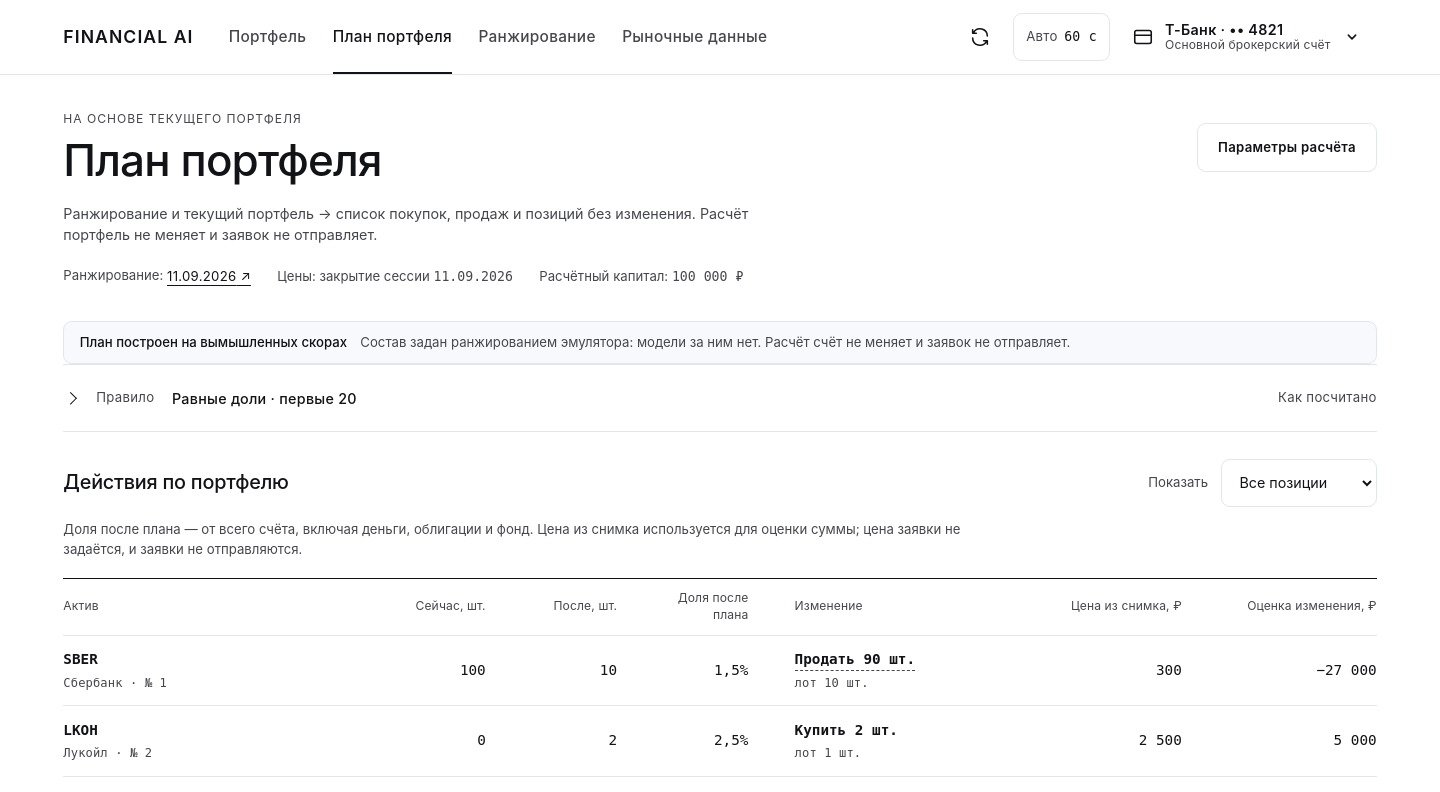
план портфеля › отбор по изменению оставляет только нужные строки
This screenshot has width=1440, height=792.
Select "К покупке" in the dropdown labelled "Показать" at {"x": 1299, "y": 483}, box top-left (1221, 459), bottom-right (1377, 507)
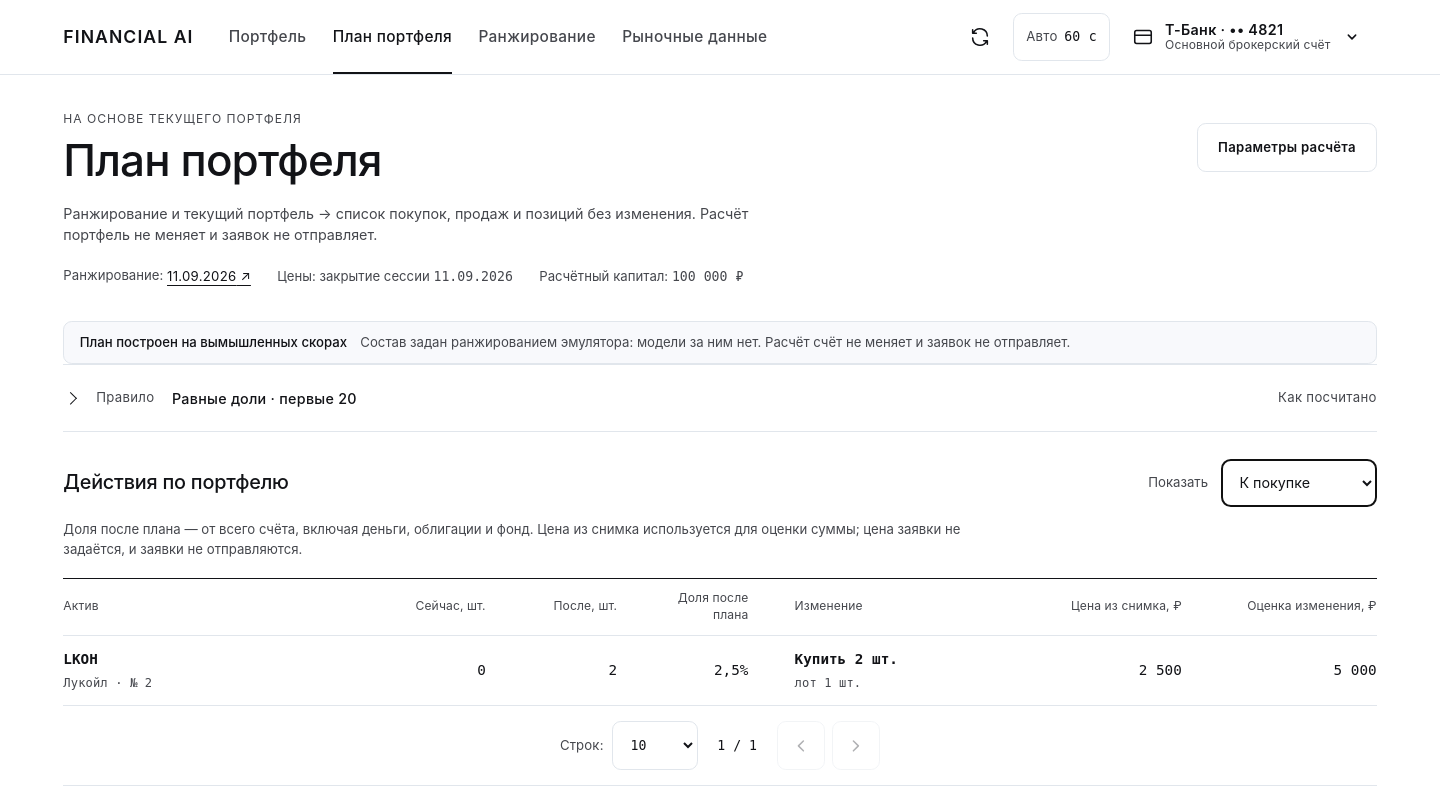
Expected: the text "LKOH" is shown, top-left (63, 651), bottom-right (98, 667)
Expected: the text "SBER" is gone
